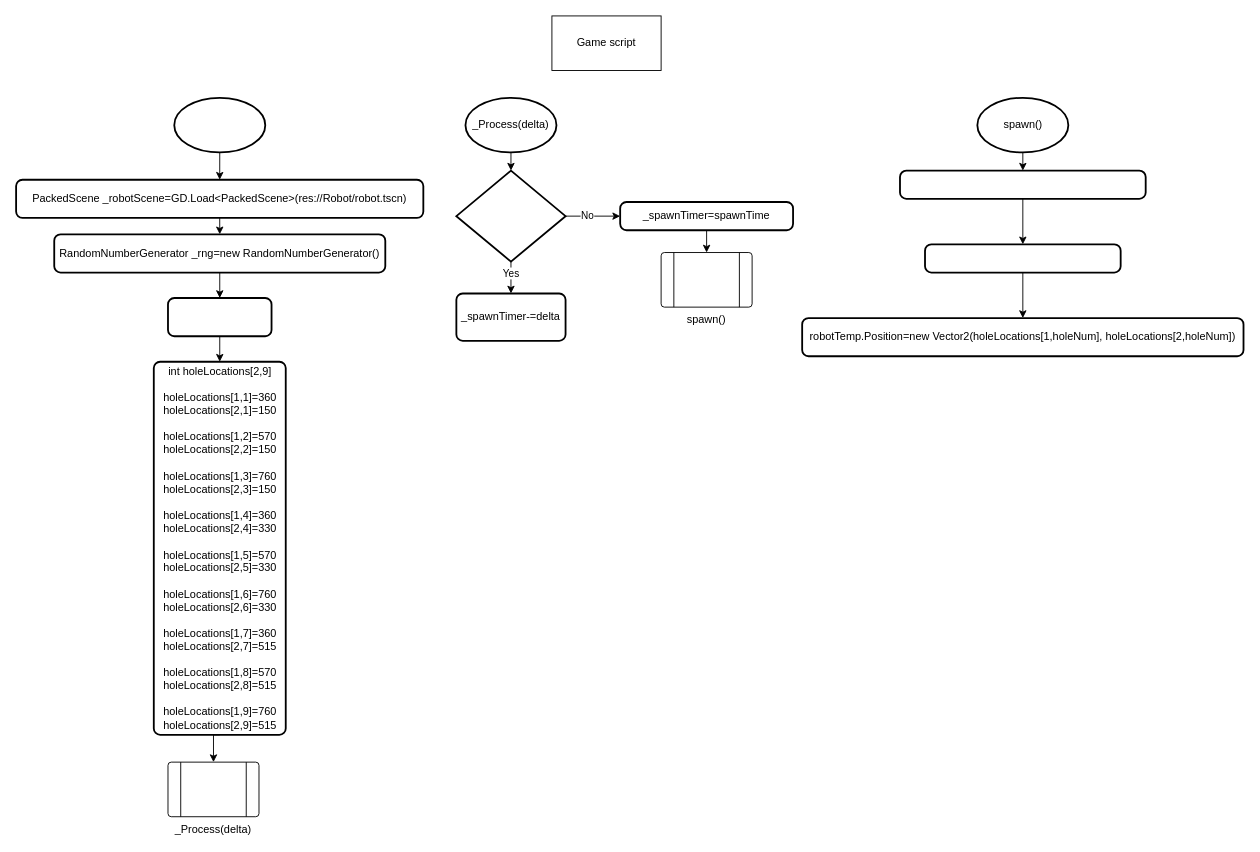
Image size: 1260x852. Some labels were removed from this diagram. Each missing label, with the centre of its shape:
holeNum=_rng.RandiRange(1,9): point (1022, 258)
if(_spawnTimer>0): point (510, 215)
robotTemp=_robotScene.Instantiate<Area2D>(): point (1022, 184)
spawnTime=1.0 _spawnTimer=0.0: point (219, 317)
Start: point (219, 124)
